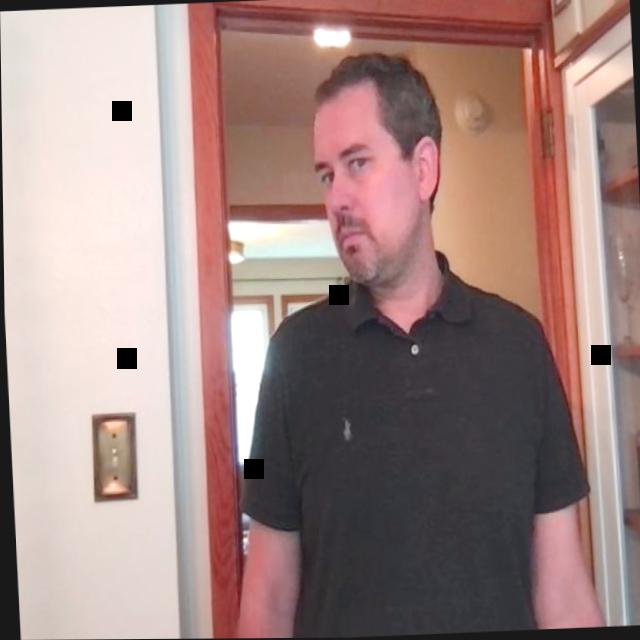NO-Mask: (305, 51, 449, 296)
